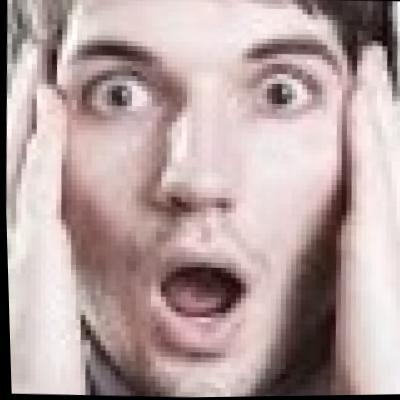surprise: (41, 0, 360, 379)
